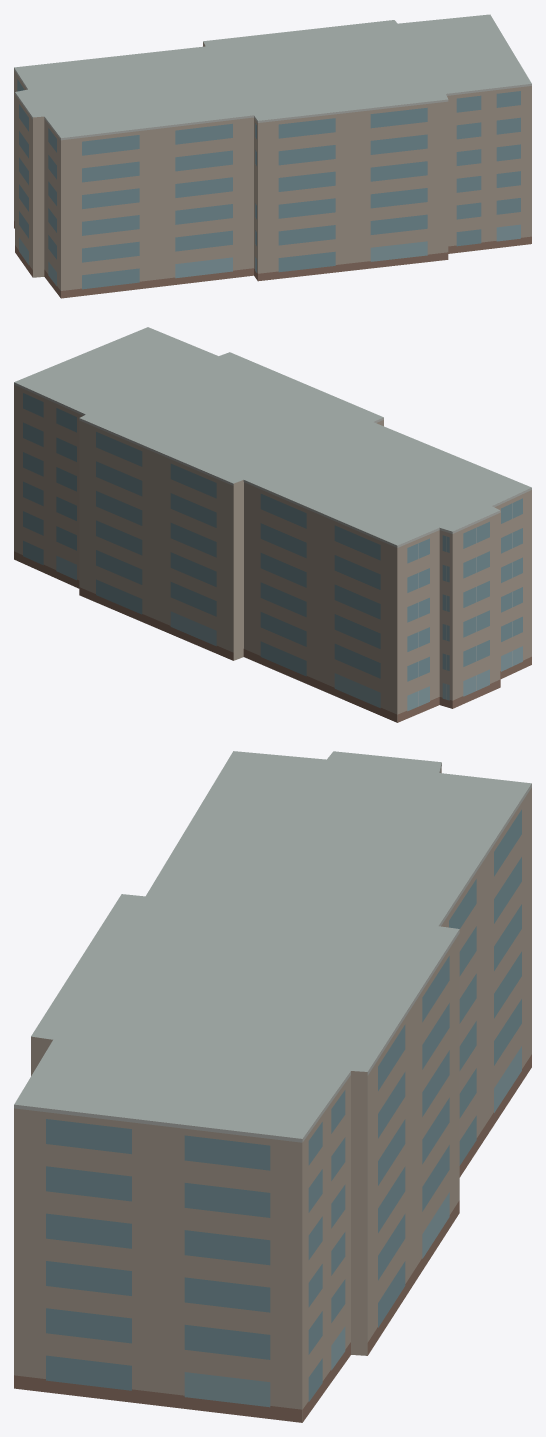
Rendered from survey-upis-32947168.glb.
3 views of the same model, one above another, from view 1: azimuth 30°, elevation 25°; view 2: azimuth 150°, elevation 25°; view 3: azimuth 270°, elevation 25° (orthographic). The views are drawn at different scales.
Parts seen in each view (by area): view 1: survey-upis-32947168.tmp; view 2: survey-upis-32947168.tmp; view 3: survey-upis-32947168.tmp.
Part boxes in pixels (box(x1,y1,x2,y2)): survey-upis-32947168.tmp: box(14, 14, 531, 298); survey-upis-32947168.tmp: box(14, 327, 531, 722); survey-upis-32947168.tmp: box(14, 751, 531, 1422).
Size of the model in its own units: 53.63 by 18.3 by 30.26.
